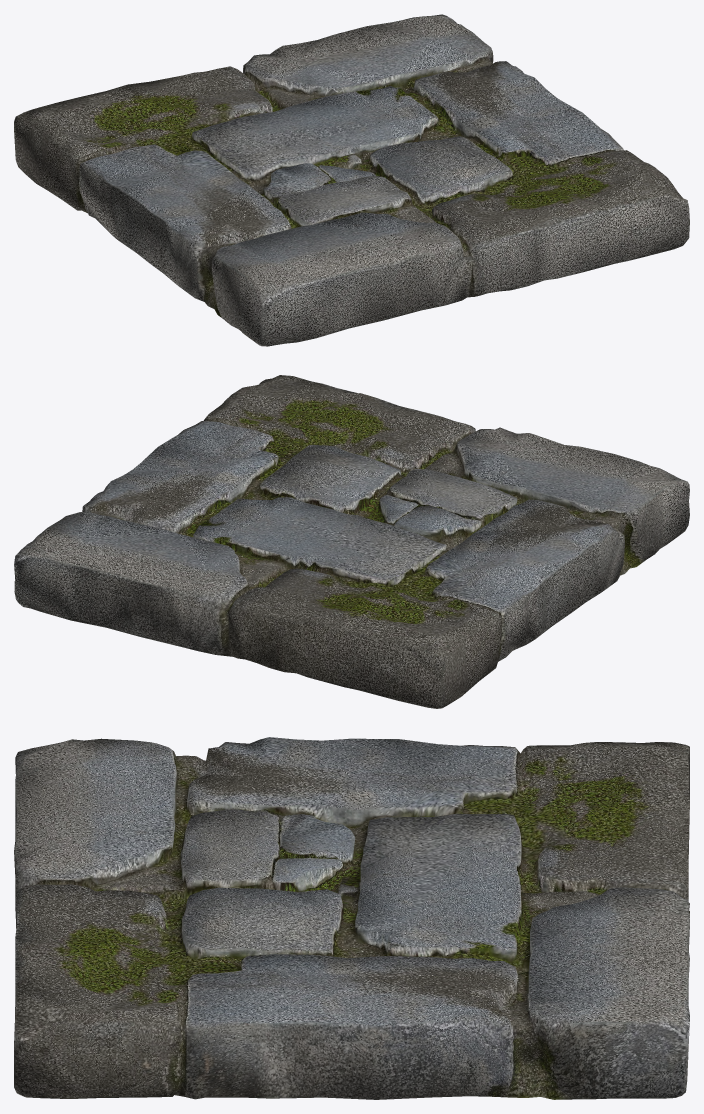
File: tripo_convert_e30cd860-dbb0-49b0-9aae-90b25ea39573.fbx
The picture shows the model from 3 angles, top to bottom: view 1: azimuth 30°, elevation 25°; view 2: azimuth 150°, elevation 25°; view 3: azimuth 270°, elevation 25°; orthographic projection. The views are drawn at different scales.
Visible parts, largest first — view 1: tripo_node_e30cd860; view 2: tripo_node_e30cd860; view 3: tripo_node_e30cd860.
Boxes of the visible parts, x1,y1,x2,y2 form: tripo_node_e30cd860: [14, 14, 689, 346]; tripo_node_e30cd860: [14, 375, 689, 708]; tripo_node_e30cd860: [14, 737, 689, 1099].
Size of the model in its own units: 0.9941 by 0.1387 by 0.998.
Materials: 1 (1 with a texture image).
